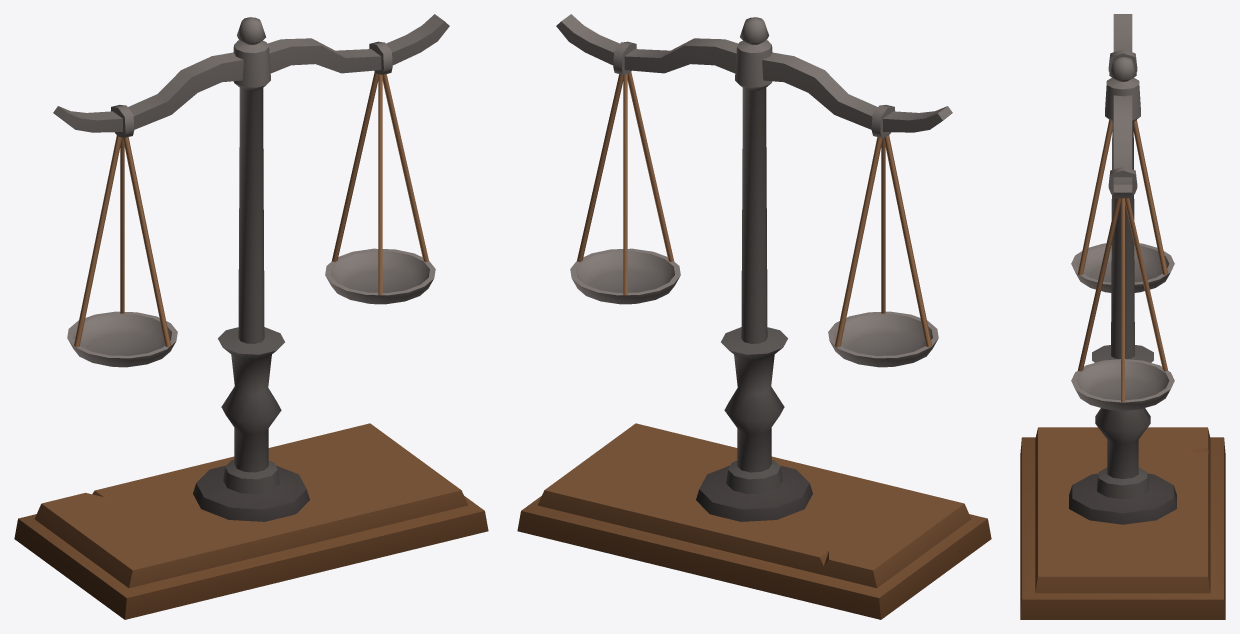
File: WeightScale.fbx
3 renders of one model, left to right at view 1: azimuth 30°, elevation 25°; view 2: azimuth 150°, elevation 25°; view 3: azimuth 270°, elevation 25°, orthographic. The views are drawn at different scales.
Parts seen in each view (by area): view 1: WeightScale, WeightScale_Handle, WeightScale_Basket2, WeightScale_Basket1; view 2: WeightScale, WeightScale_Handle, WeightScale_Basket2, WeightScale_Basket1; view 3: WeightScale, WeightScale_Basket1, WeightScale_Basket2, WeightScale_Handle.
Part boxes in pixels (left/top/right/bottom): WeightScale: left=14, top=17, right=488, bottom=619; WeightScale_Handle: left=53, top=14, right=449, bottom=132; WeightScale_Basket2: left=67, top=105, right=177, bottom=367; WeightScale_Basket1: left=325, top=41, right=435, bottom=304; WeightScale: left=517, top=17, right=991, bottom=619; WeightScale_Handle: left=556, top=14, right=952, bottom=132; WeightScale_Basket2: left=828, top=105, right=938, bottom=367; WeightScale_Basket1: left=570, top=41, right=680, bottom=304; WeightScale: left=1020, top=56, right=1225, bottom=619; WeightScale_Basket1: left=1071, top=166, right=1174, bottom=410; WeightScale_Basket2: left=1071, top=49, right=1174, bottom=292; WeightScale_Handle: left=1113, top=14, right=1132, bottom=198.
Bounding box in the file's own units: 52.85 × 67.46 × 26.16.
